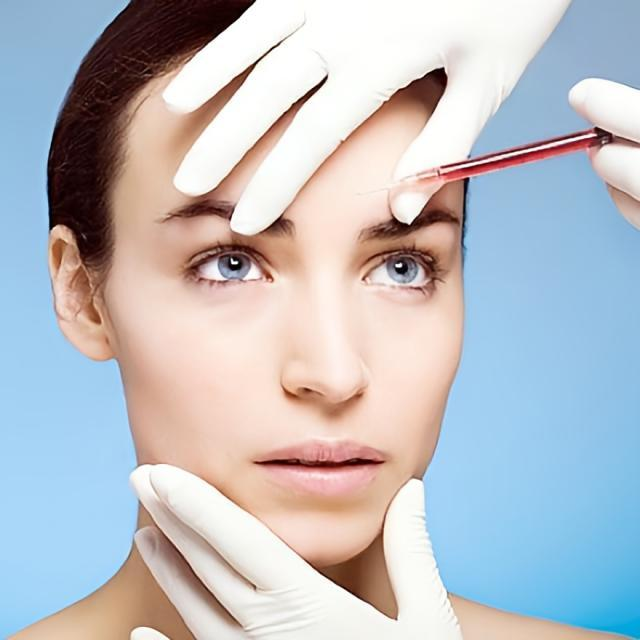neutral: (114, 54, 466, 558)
